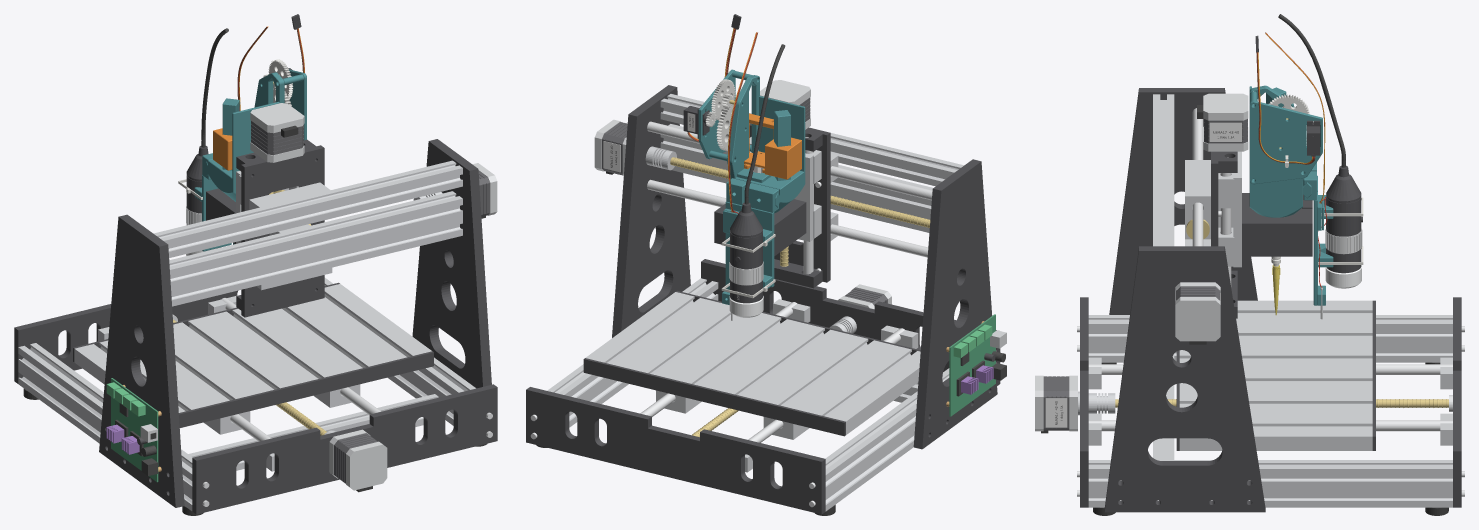
File: cnc3018.glb
3 views of the same model, side by side, from view 1: azimuth 30°, elevation 25°; view 2: azimuth 150°, elevation 25°; view 3: azimuth 270°, elevation 25° (orthographic). The views are drawn at different scales.
Visible parts, largest first — view 1: cnc_base__black, cnc_base__alu, cnc_y_bed__alu, cnc_x_carriage__black, cnc_y_bed__black, cnc_z__petg_print, cnc_base__cap, cnc_base__pcb, cnc_x_carriage__cap, cnc_x_carriage__alu, cnc_base__stepper, cnc_base__steel (+8 smaller); view 2: cnc_base__black, cnc_y_bed__alu, cnc_base__alu, cnc_z__petg_print, cnc_base__steel, cnc_y_bed__black, cnc_x_carriage__black, cnc_z__abs_black, cnc_base__pcb, cnc_base__brass, syringe_carriage__syr_petg_orange, cnc_z__black (+10 smaller); view 3: cnc_base__black, cnc_base__alu, cnc_y_bed__alu, cnc_z__petg_print, cnc_base__steel, cnc_z__black, cnc_base__cap, cnc_z__abs_black, cnc_z__alu, cnc_x_carriage__cap, cnc_x_carriage__alu, cnc_x_carriage__black (+10 smaller).
Part boxes in pixels (x1=…): cnc_base__black: x1=14, y1=139, x2=497, y2=514; cnc_base__alu: x1=18, y1=160, x2=475, y2=510; cnc_y_bed__alu: x1=74, y1=284, x2=431, y2=434; cnc_x_carriage__black: x1=236, y1=139, x2=324, y2=317; cnc_y_bed__black: x1=73, y1=282, x2=433, y2=427; cnc_z__petg_print: x1=194, y1=69, x2=306, y2=251; cnc_base__cap: x1=329, y1=163, x2=497, y2=490; cnc_base__pcb: x1=111, y1=378, x2=158, y2=482; cnc_x_carriage__cap: x1=250, y1=103, x2=304, y2=162; cnc_x_carriage__alu: x1=249, y1=182, x2=332, y2=290; cnc_base__stepper: x1=334, y1=171, x2=489, y2=483; cnc_base__steel: x1=172, y1=298, x2=492, y2=506; cnc_base__black: x1=526, y1=85, x2=1000, y2=514; cnc_y_bed__alu: x1=585, y1=292, x2=920, y2=439; cnc_base__alu: x1=547, y1=94, x2=996, y2=511; cnc_z__petg_print: x1=698, y1=69, x2=805, y2=304; cnc_base__steel: x1=530, y1=121, x2=932, y2=507; cnc_y_bed__black: x1=583, y1=291, x2=920, y2=436; cnc_x_carriage__black: x1=749, y1=123, x2=830, y2=288; cnc_z__abs_black: x1=683, y1=14, x2=762, y2=303; cnc_base__pcb: x1=949, y1=314, x2=995, y2=416; cnc_base__brass: x1=670, y1=157, x2=930, y2=437; syringe_carriage__syr_petg_orange: x1=744, y1=113, x2=801, y2=179; cnc_z__black: x1=714, y1=199, x2=806, y2=255; cnc_base__black: x1=1080, y1=88, x2=1461, y2=512; cnc_base__alu: x1=1078, y1=94, x2=1452, y2=507; cnc_y_bed__alu: x1=1179, y1=300, x2=1372, y2=450; cnc_z__petg_print: x1=1249, y1=85, x2=1333, y2=305; cnc_base__steel: x1=1077, y1=108, x2=1464, y2=496; cnc_z__black: x1=1242, y1=193, x2=1312, y2=256; cnc_base__cap: x1=1035, y1=282, x2=1220, y2=431; cnc_z__abs_black: x1=1255, y1=35, x2=1362, y2=273; cnc_z__alu: x1=1218, y1=151, x2=1241, y2=267; cnc_x_carriage__cap: x1=1203, y1=93, x2=1248, y2=151; cnc_x_carriage__alu: x1=1185, y1=160, x2=1210, y2=246; cnc_x_carriage__black: x1=1211, y1=151, x2=1237, y2=318.
Bounding box in the file's own units: 425 × 432 × 401.
